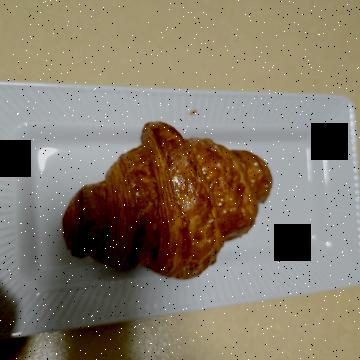croissant: (113, 82, 288, 308)
